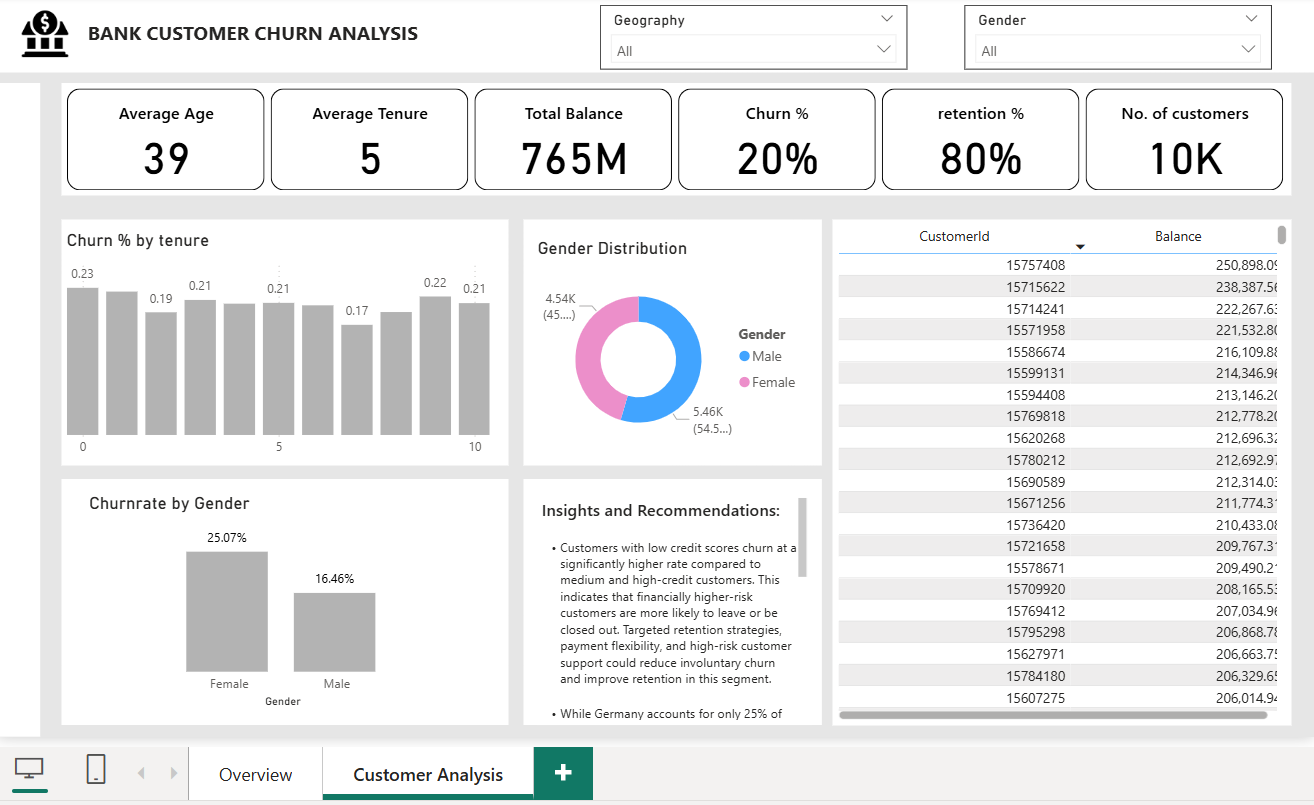

This screenshot's page, from the dashboard's own definition file:
{"tool":"powerbi","page":{"name":"Customer Analysis","canvas":[1280,720],"ordinal":1},"visuals":[{"type":"shape","box":[62.7,84.6,1195.4,109.3],"z":0},{"type":"shape","box":[0,0,1280,74.4],"z":1000},{"type":"shape","box":[0,84.6,42.3,635.6],"z":2000},{"type":"shape","box":[62.7,217.2,434.4,239.1],"z":4000},{"type":"columnChart","title":"Churn % by tenure","fields":{"Category":["Churn_Modelling.Tenure"],"Y":["Churn_Modelling.Churnrate"]},"box":[62.7,227.4,421.3,228.9],"z":5000},{"type":"shape","box":[511.7,217.2,290.1,239.1],"z":6000},{"type":"shape","box":[62.7,469.4,434.4,239.1],"z":7000},{"type":"tableEx","fields":{"Values":["Churn_Modelling.CustomerId","Churn_Modelling.Balance"]},"box":[812,217.2,446.1,491.3],"z":8000},{"type":"shape","box":[511.7,469.4,290.1,239.1],"z":9000},{"type":"textbox","box":[524.8,482.6,266.8,226],"z":10000},{"type":"columnChart","fields":{"Category":["Churn_Modelling.Gender"],"Y":["Churn_Modelling.Churnrate"]},"box":[84.6,482.6,386.3,212.8],"z":11000},{"type":"donutChart","title":"Gender Distribution","fields":{"Category":["Churn_Modelling.Gender"],"Y":["CountNonNull(Churn_Modelling.Gender)"]},"box":[520.5,234.7,271.2,217.2],"z":12000},{"type":"cardVisual","fields":{"Data":["Avg(Churn_Modelling.Age)","Avg(Churn_Modelling.Tenure)","Sum(Churn_Modelling.Balance)","Churn_Modelling.Churnrate","Churn_Modelling.retentionrate","CountNonNull(Churn_Modelling.CustomerId)"]},"box":[62.7,84.6,1195.4,109.3],"z":13000},{"type":"slicer","fields":{"Values":["Churn_Modelling.Geography"]},"box":[586.1,8.7,298.9,62.7],"z":19001},{"type":"slicer","fields":{"Values":["Churn_Modelling.Gender"]},"box":[940.3,8.7,298.9,62.7],"z":19002},{"type":"textbox","box":[83.1,17.5,428.6,37.9],"z":19003},{"type":"image","box":[0,8.7,93.3,55.4],"z":19004}]}

Visuals, with their boxes on the page's 1280x720 design canvas (x1, y1, x2, y2). These are canvas units, not pixel positions in the 1314x805 screenshot, which may show the page scaled, cropped or inside an application window:
shape: box(63, 85, 1258, 194)
shape: box(0, 0, 1280, 74)
shape: box(0, 85, 42, 720)
shape: box(63, 217, 497, 456)
"Churn % by tenure" columnChart: box(63, 227, 484, 456)
shape: box(512, 217, 802, 456)
shape: box(63, 469, 497, 708)
tableEx - Churn_Modelling.CustomerId x Churn_Modelling.Balance: box(812, 217, 1258, 708)
shape: box(512, 469, 802, 708)
textbox: box(525, 483, 792, 709)
columnChart - Churn_Modelling.Gender x Churn_Modelling.Churnrate: box(85, 483, 471, 695)
"Gender Distribution" donutChart: box(520, 235, 792, 452)
cardVisual - Avg(Churn_Modelling.Age) x Avg(Churn_Modelling.Tenure): box(63, 85, 1258, 194)
slicer - Churn_Modelling.Geography: box(586, 9, 885, 71)
slicer - Churn_Modelling.Gender: box(940, 9, 1239, 71)
textbox: box(83, 18, 512, 55)
image: box(0, 9, 93, 64)
